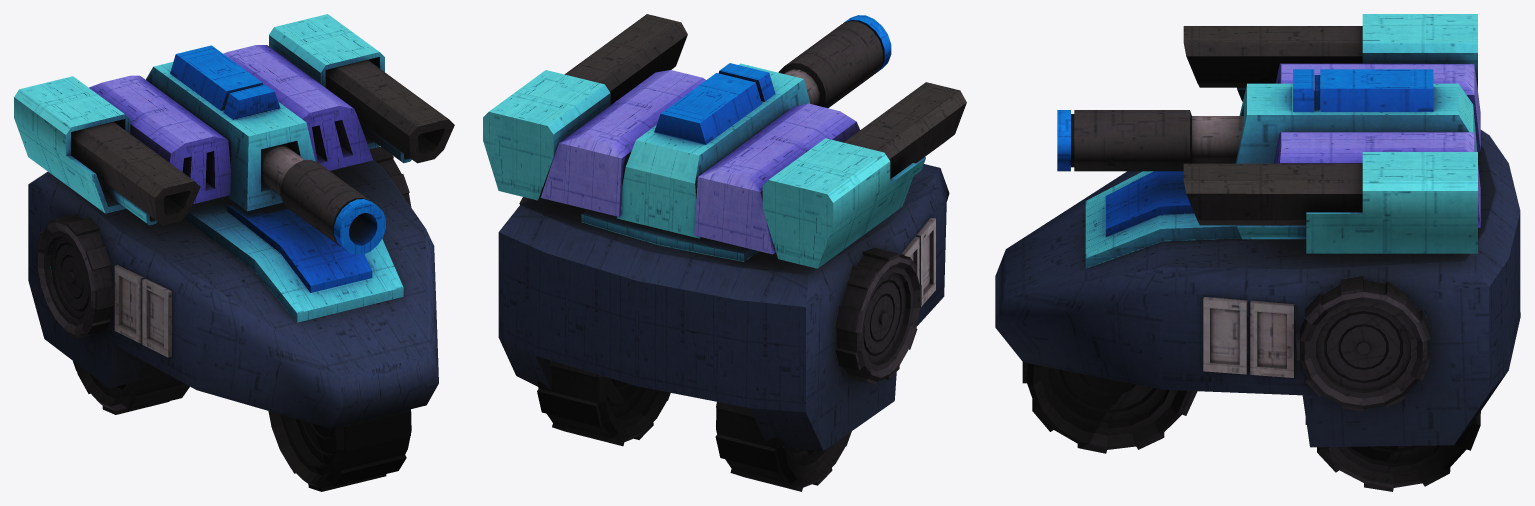
The model's file is PlayerA12.obj.
The picture shows the model from 3 angles, left to right: view 1: azimuth 30°, elevation 25°; view 2: azimuth 150°, elevation 25°; view 3: azimuth 270°, elevation 25°; orthographic projection. The views are drawn at different scales.
Parts seen in each view (by area): view 1: Object001, Object002, Object004, Object003; view 2: Object001, Object002, Object003; view 3: Object001, Object002, Object004, Object003.
Part boxes in pixels (x1,y1,x2,y2): Object001: (28,45,438,428); Object002: (14,14,454,225); Object004: (268,409,411,491); Object003: (73,361,189,414); Object001: (498,15,949,450); Object002: (483,14,966,268); Object003: (537,360,851,491); Object001: (995,63,1520,447); Object002: (1183,14,1477,253); Object004: (1022,362,1197,453); Object003: (1305,411,1480,491).
Size of the model in its own units: 93.13 by 89.3 by 119.
Materials: 1 (1 with a texture image).
